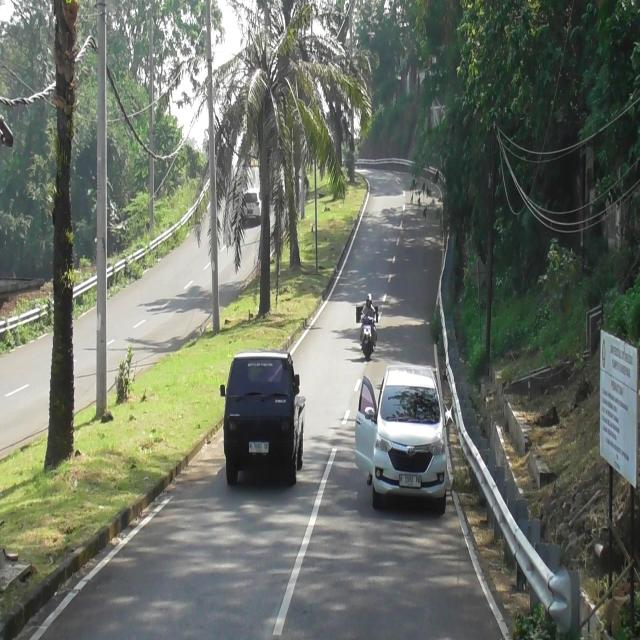motorcycle: (362, 315, 375, 358)
person: (360, 292, 376, 320)
rider_region: (360, 290, 375, 357)
